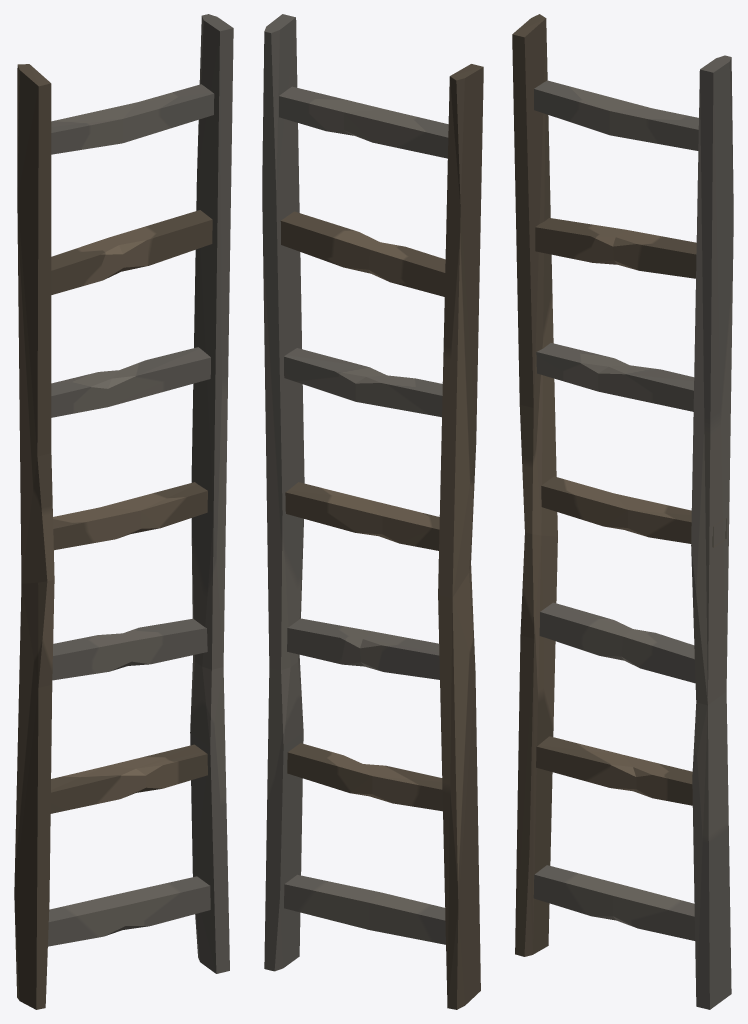
Rendered from SM_Prop_Ladder_01.fbx.
The picture shows the model from 3 angles, left to right: view 1: azimuth 30°, elevation 25°; view 2: azimuth 150°, elevation 25°; view 3: azimuth 330°, elevation 25°; orthographic projection.
Parts seen in each view (by area): view 1: SM_Prop_Ladder_01; view 2: SM_Prop_Ladder_01; view 3: SM_Prop_Ladder_01.
Part boxes in pixels (bbox=[...]): SM_Prop_Ladder_01: bbox=[14, 14, 233, 1009]; SM_Prop_Ladder_01: bbox=[262, 14, 483, 1009]; SM_Prop_Ladder_01: bbox=[512, 14, 733, 1009].
Size of the model in its own units: 68.31 by 309 by 15.11.
1 material, 1 textured.
